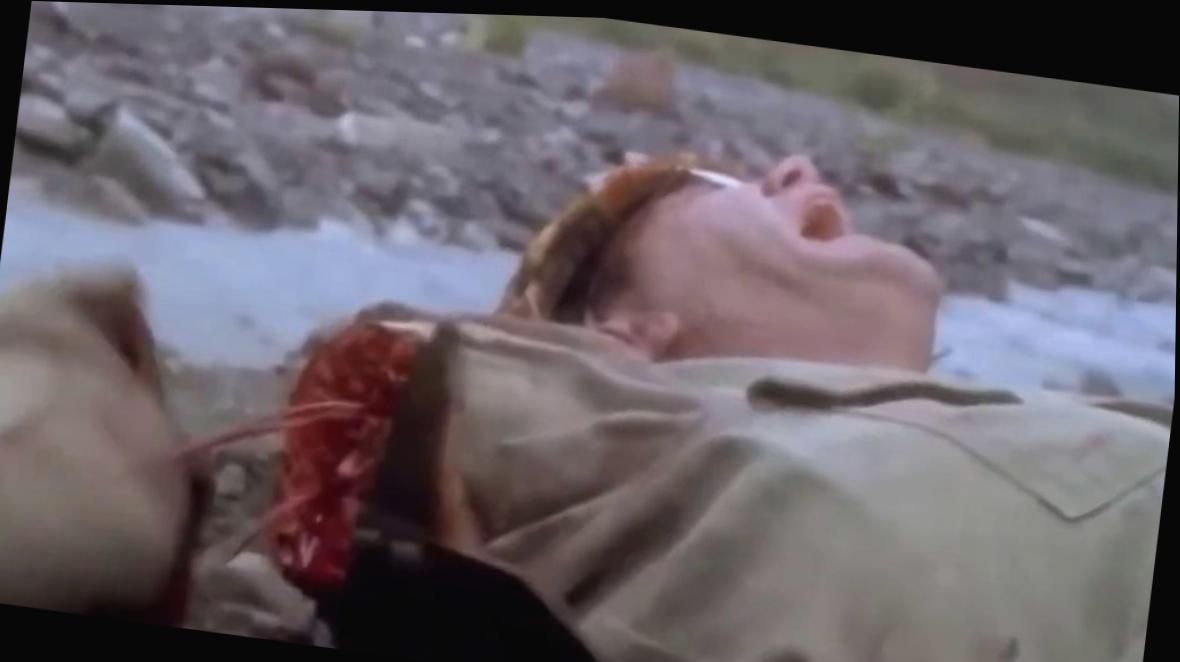Fire: (137, 308, 453, 625), (59, 270, 165, 410), (436, 453, 455, 541)
